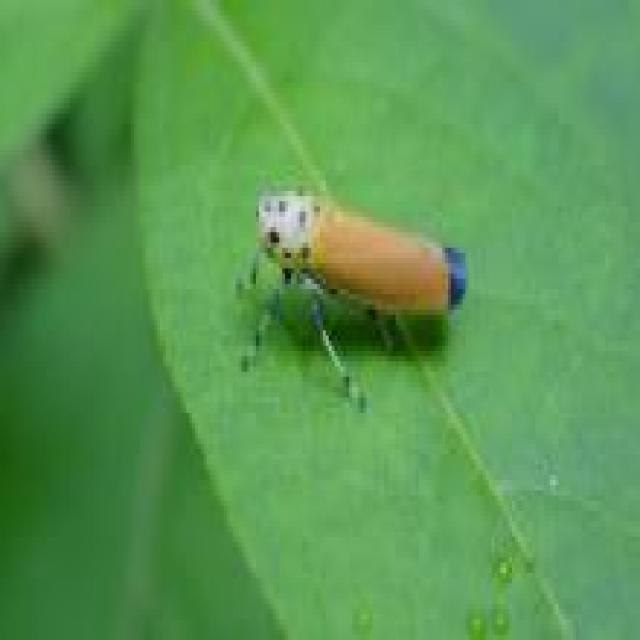Yechan: (235, 183, 474, 431)
